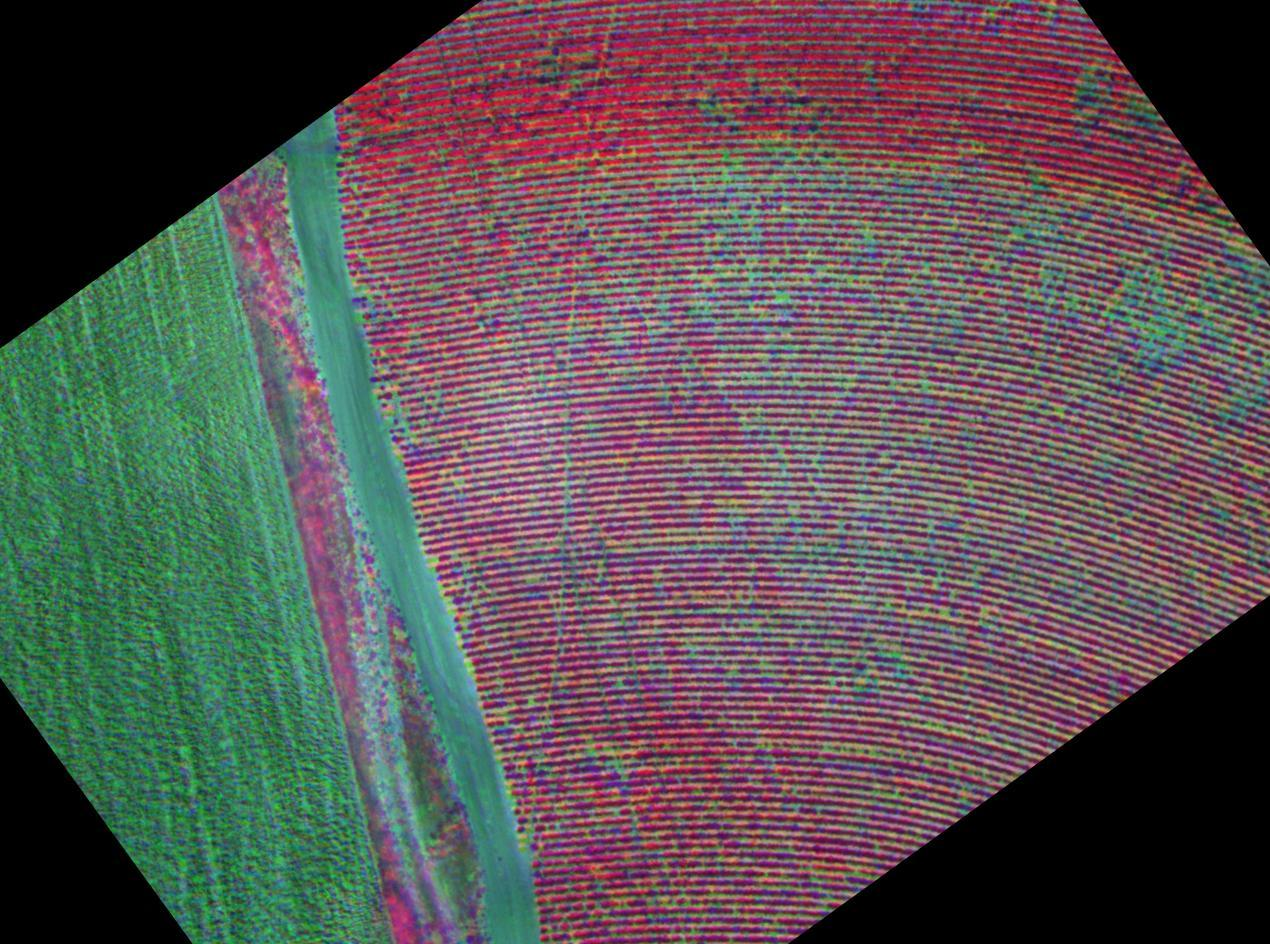dc: (777, 291, 790, 305), (1037, 268, 1050, 281), (1125, 278, 1135, 289), (864, 232, 873, 241)
